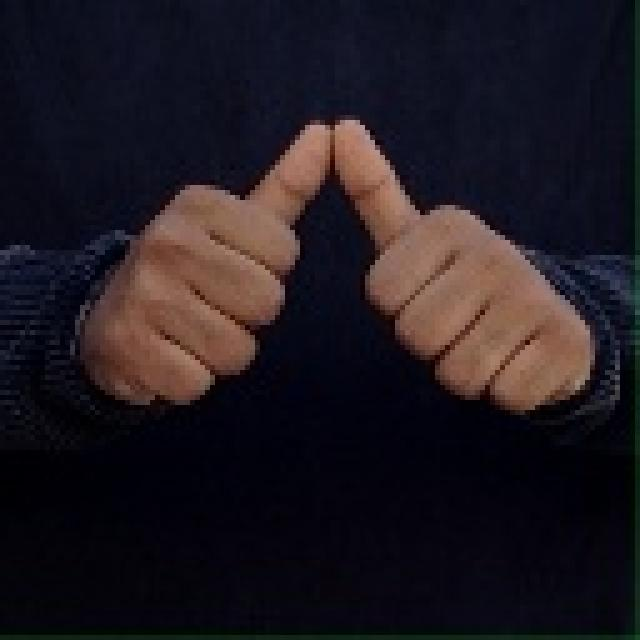Alphabet-A: (66, 113, 600, 430)
